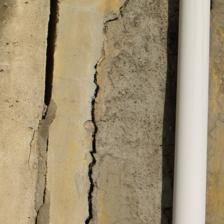Crack: (0, 0, 85, 109), (0, 0, 85, 109)
